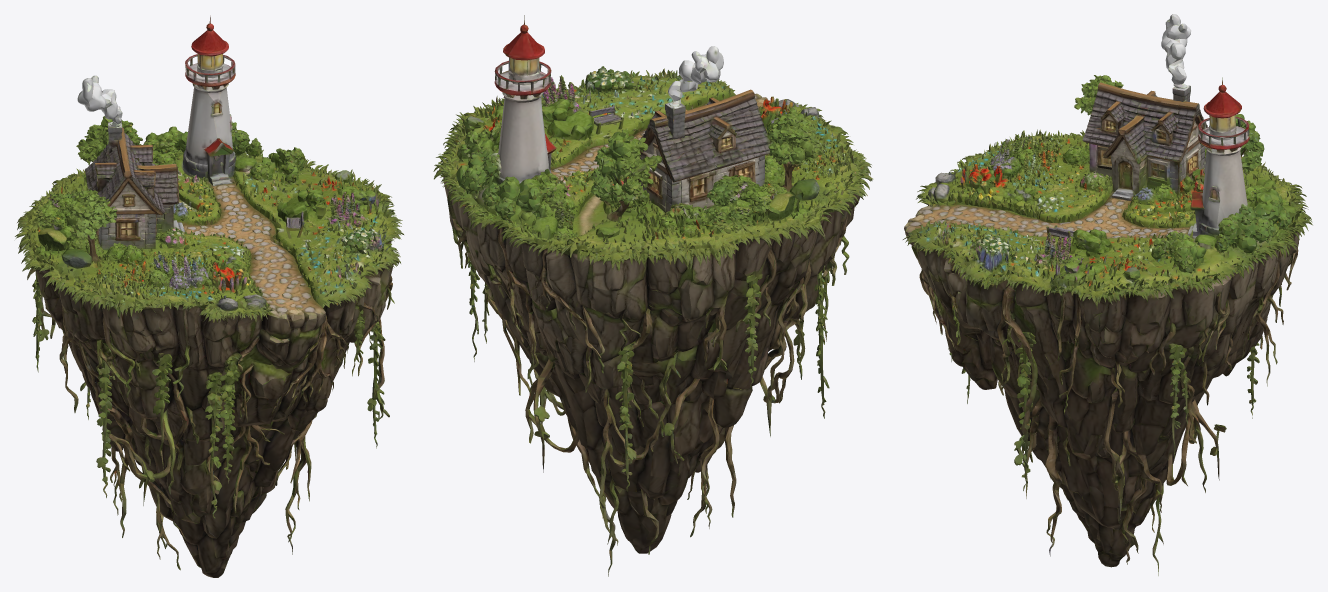
File: lighthouse.glb
3 views of the same model, side by side, from view 1: azimuth 30°, elevation 25°; view 2: azimuth 150°, elevation 25°; view 3: azimuth 270°, elevation 25° (orthographic). The views are drawn at different scales.
Parts seen in each view (by area): view 1: Mesh_0; view 2: Mesh_0; view 3: Mesh_0.
Part boxes in pixels (x1,y1,x2,y2): Mesh_0: (15, 15, 403, 577); Mesh_0: (433, 15, 873, 576); Mesh_0: (903, 14, 1312, 575).
Size of the model in its own units: 1.34 by 1.91 by 1.36.
1 material, 1 textured.
